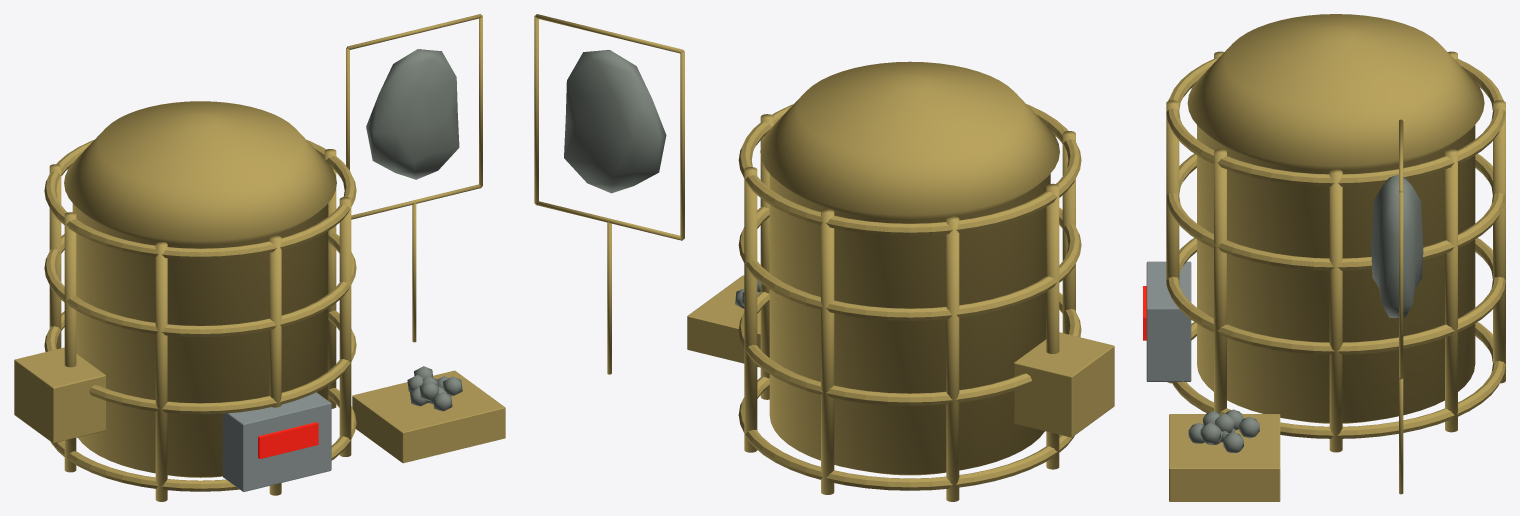
The picture shows the model from 3 angles, left to right: view 1: azimuth 30°, elevation 25°; view 2: azimuth 150°, elevation 25°; view 3: azimuth 270°, elevation 25°; orthographic projection. The views are drawn at different scales.
Visible parts, largest first — view 1: TI084 / rounded gold ore canister, TI084 / separate mineral specimen, TI084 / small sample tray, TI084 / front terminal, TI084 / side cargo block, TI084 / canister cage hoop.003, TI084 / canister cage hoop.002, TI084 / canister cage hoop.001, TI084 / canister protective upright.005, TI084 / canister protective upright.007, TI084 / canister cage hoop, TI084 / canister protective upright.006 (+8 smaller); view 2: TI084 / rounded gold ore canister, TI084 / separate mineral specimen, TI084 / side cargo block, TI084 / canister cage hoop.003, TI084 / canister cage hoop.002, TI084 / canister cage hoop, TI084 / canister cage hoop.001, TI084 / canister protective upright.003, TI084 / canister protective upright.002, TI084 / small sample tray, TI084 / canister protective upright.001, TI084 / canister protective upright.004 (+7 smaller); view 3: TI084 / rounded gold ore canister, TI084 / small sample tray, TI084 / canister cage hoop.003, TI084 / separate mineral specimen, TI084 / canister cage hoop.001, TI084 / front terminal, TI084 / canister cage hoop.002, TI084 / canister cage hoop, TI084 / canister protective upright, TI084 / canister protective upright.001, TI084 / canister protective upright.007, TI084 / canister protective upright.002 (+3 smaller).
Part boxes in pixels (x1,y1,x2,y2): TI084 / rounded gold ore canister: (64,101,336,477); TI084 / separate mineral specimen: (366,49,459,179); TI084 / small sample tray: (352,370,505,463); TI084 / front terminal: (223,392,331,491); TI084 / side cargo block: (14,347,105,443); TI084 / canister cage hoop.003: (44,140,356,259); TI084 / canister cage hoop.002: (44,233,356,337); TI084 / canister cage hoop.001: (44,310,356,414); TI084 / canister protective upright.005: (155,242,167,501); TI084 / canister protective upright.007: (339,197,351,456); TI084 / canister cage hoop: (51,388,356,491); TI084 / canister protective upright.006: (269,235,281,495); TI084 / rounded gold ore canister: (760,61,1059,475); TI084 / separate mineral specimen: (564,50,666,193); TI084 / side cargo block: (1014,332,1114,437); TI084 / canister cage hoop.003: (738,104,1081,235); TI084 / canister cage hoop.002: (738,207,1081,320); TI084 / canister cage hoop: (738,376,1074,490); TI084 / canister cage hoop.001: (738,291,1081,405); TI084 / canister protective upright.003: (946,216,959,501); TI084 / canister protective upright.002: (821,209,834,494); TI084 / small sample tray: (687,275,760,367); TI084 / canister protective upright.001: (744,167,757,452); TI084 / canister protective upright.004: (1046,183,1059,469); TI084 / rounded gold ore canister: (1187,14,1484,423); TI084 / small sample tray: (1169,414,1280,501); TI084 / canister cage hoop.003: (1166,59,1505,186); TI084 / separate mineral specimen: (1371,175,1423,317); TI084 / canister cage hoop.001: (1166,238,1505,354); TI084 / front terminal: (1146,261,1191,381); TI084 / canister cage hoop.002: (1166,153,1505,270); TI084 / canister cage hoop: (1172,322,1505,438); TI084 / canister protective upright: (1329,169,1342,452); TI084 / canister protective upright.001: (1445,149,1457,432); TI084 / canister protective upright.007: (1214,149,1226,412); TI084 / canister protective upright.002: (1493,100,1505,383).
Size of the model in its own units: 3.24 by 2.11 by 1.95.
